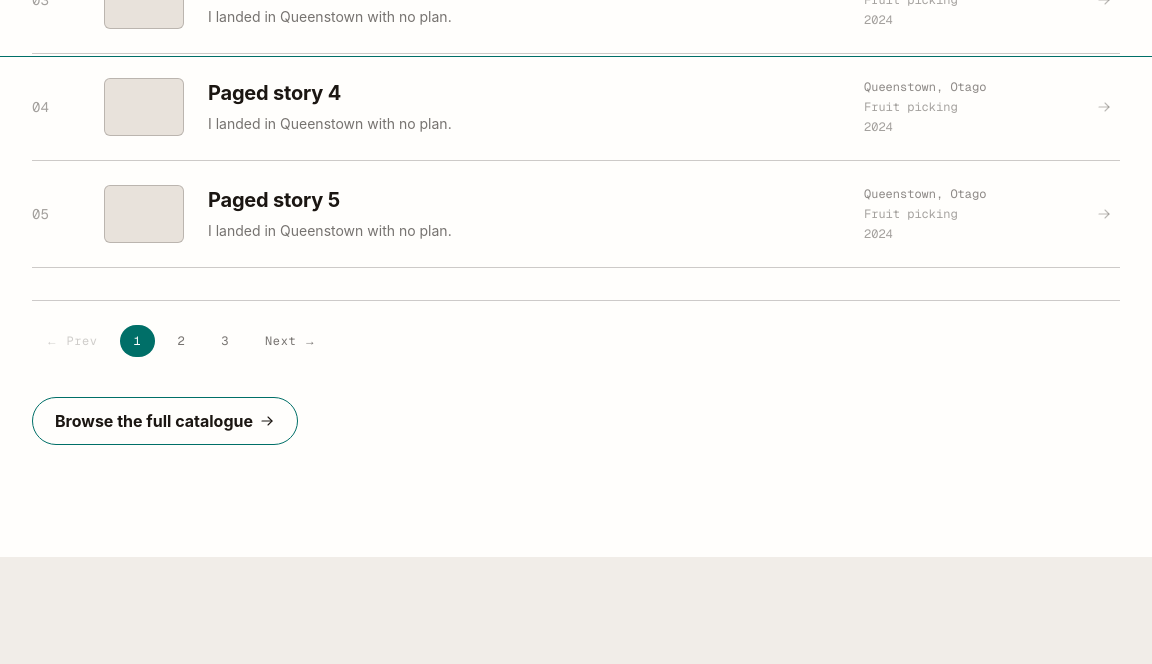
it: the record — pagination › keeps entry numbering continuous across pages
The image size is (1152, 664).
(page scrolled)
Step 1. Click the button named "Page 2 of 3" → (181, 341), box [163,325,199,357]
(page scrolled)
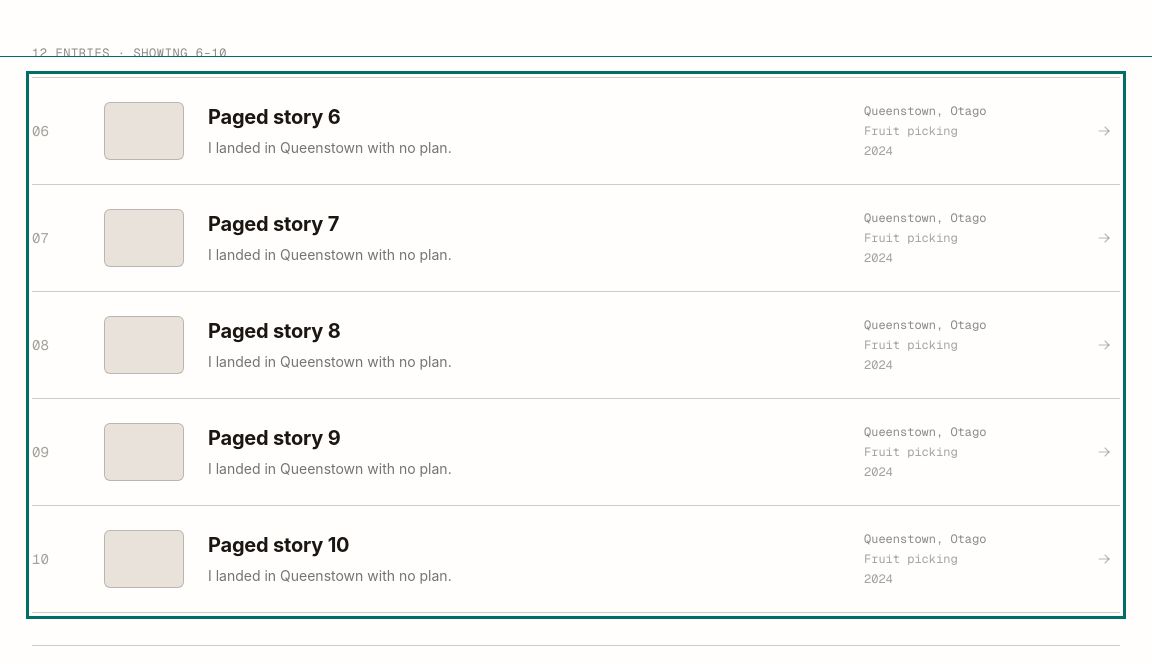
Expected: the text "06" is shown, [32,122,49,140]
